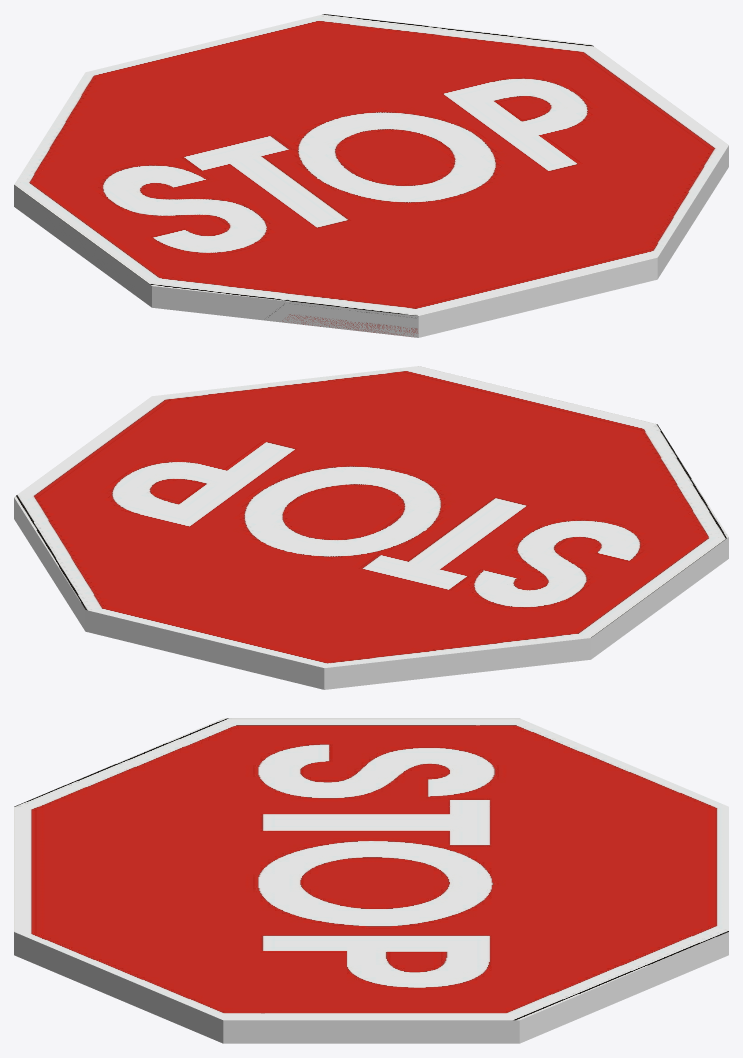
3 views of the same model, one above another, from view 1: azimuth 30°, elevation 25°; view 2: azimuth 150°, elevation 25°; view 3: azimuth 270°, elevation 25° (orthographic). The views are drawn at different scales.
Visible parts, largest first — view 1: SketchUp (×3); view 2: SketchUp (×2); view 3: SketchUp (×2).
Part boxes in pixels (box(x1,y1,x2,y2)): SketchUp (×3): box(14, 14, 728, 337); SketchUp (×2): box(14, 366, 728, 689); SketchUp (×2): box(14, 718, 728, 1043).
Bounding box in the file's own units: 21.82 × 21.82 × 0.7874.
Materials: 2 (1 with a texture image).
